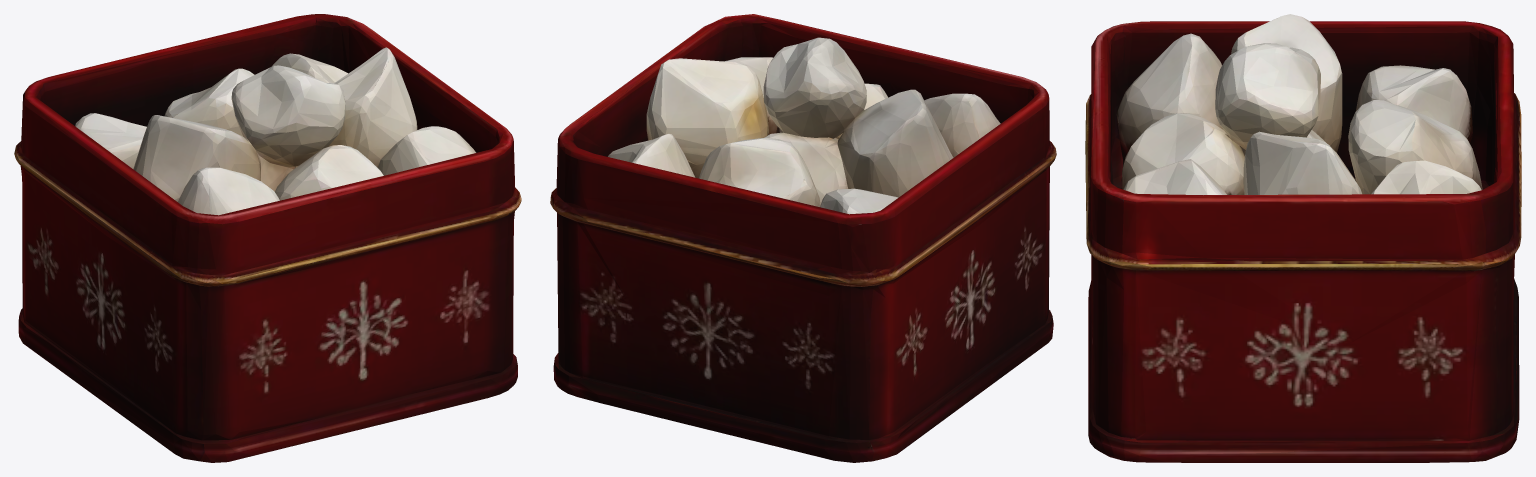
3 renders of one model, left to right at view 1: azimuth 30°, elevation 25°; view 2: azimuth 150°, elevation 25°; view 3: azimuth 270°, elevation 25°, orthographic. The views are drawn at different scales.
Visible parts, largest first — view 1: world; view 2: world; view 3: world.
Boxes of the visible parts, left/top/right/bottom form: world: left=14, top=14, right=521, bottom=462; world: left=550, top=14, right=1056, bottom=462; world: left=1085, top=14, right=1521, bottom=462.
Size of the model in its own units: 0.4932 by 0.4102 by 0.4929.
Materials: 1 (1 with a texture image).
